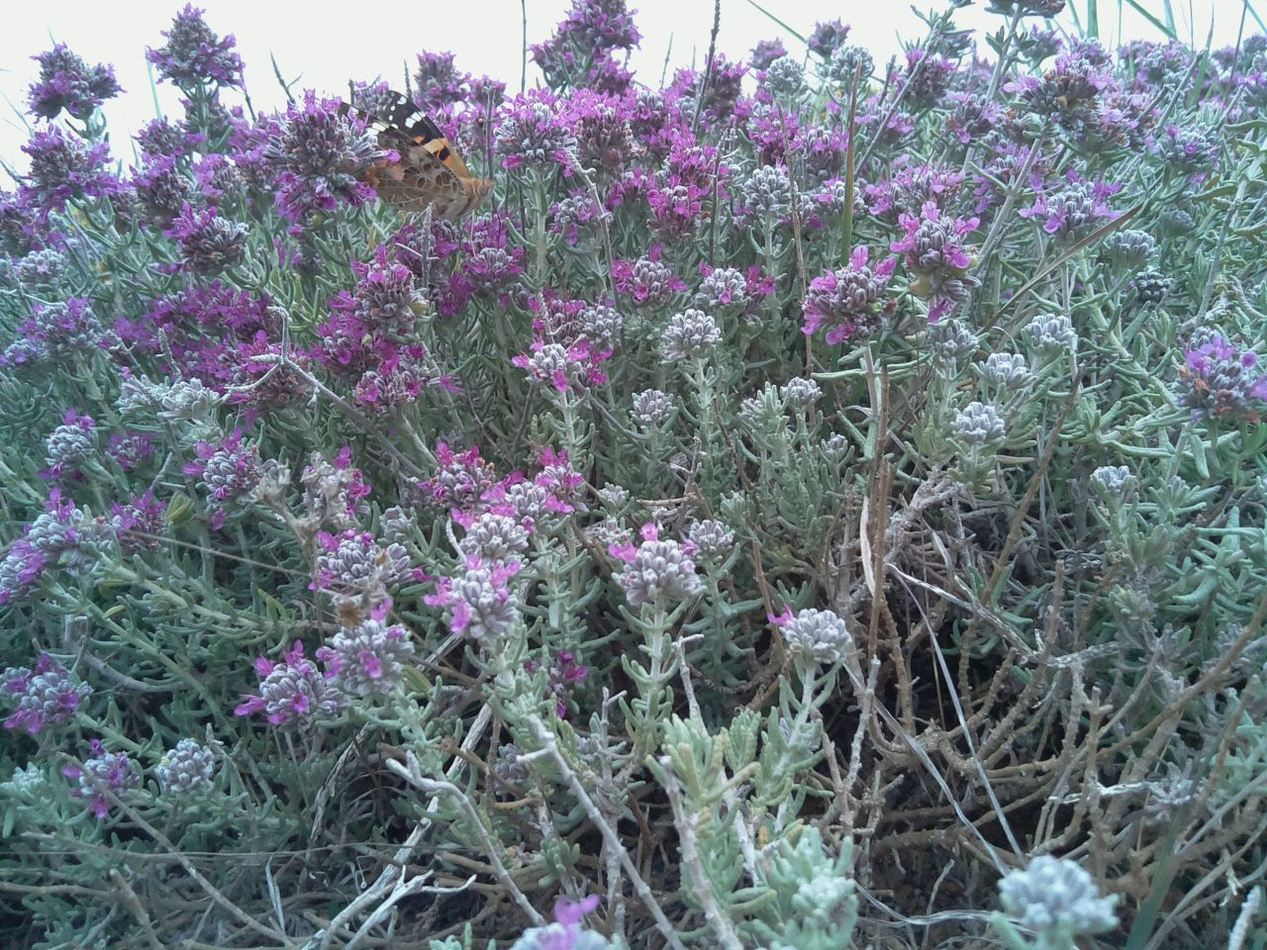Vanessa cardui: (329, 82, 502, 226)
